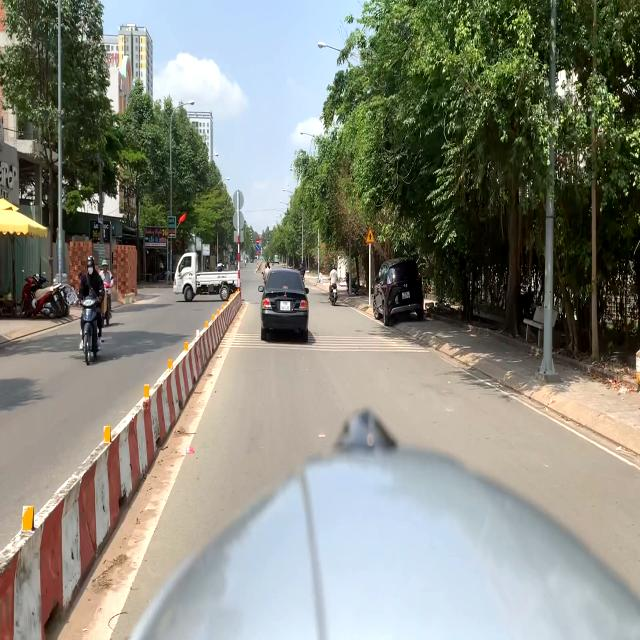P.102: (256, 238, 259, 244)
R.302a: (256, 244, 260, 250)
W.207a: (365, 228, 375, 244)
